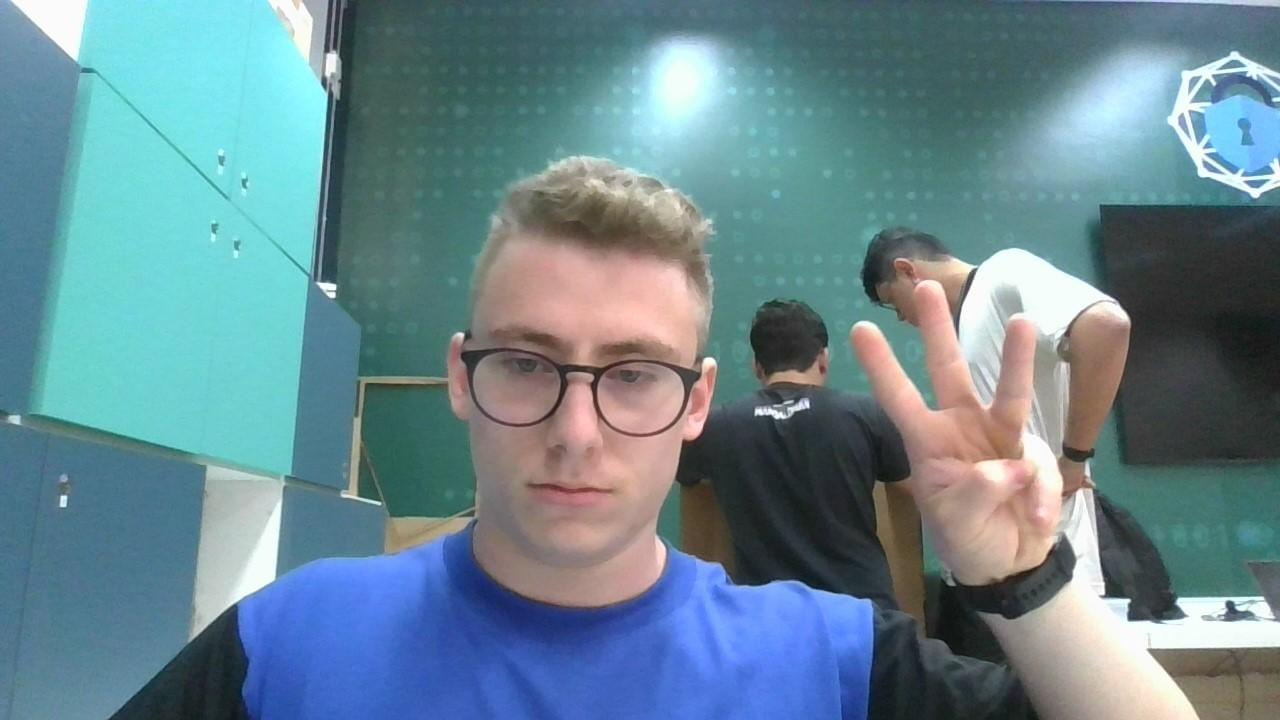W: (840, 278, 1074, 570)
